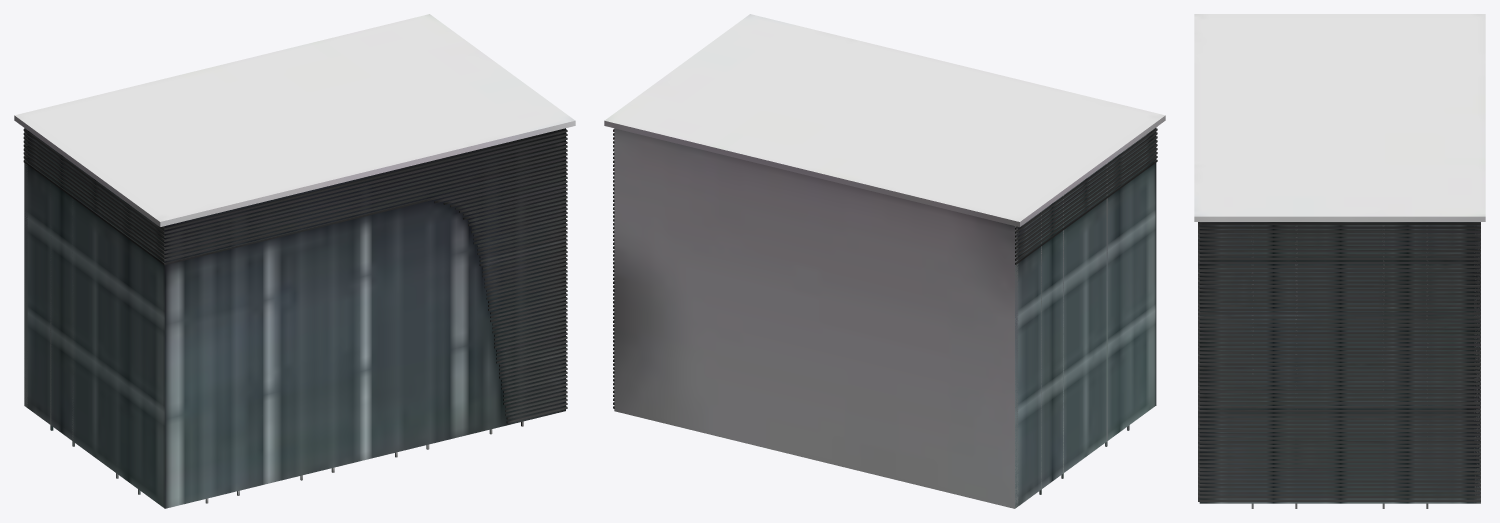
Rendered from car-showroom.lod0.glb.
3 renders of one model, left to right at view 1: azimuth 30°, elevation 25°; view 2: azimuth 150°, elevation 25°; view 3: azimuth 270°, elevation 25°, orthographic.
Visible parts, largest first — view 1: Object001_Object001_mtl_0; view 2: Object001_Object001_mtl_0; view 3: Object001_Object001_mtl_0.
Boxes of the visible parts, x1=… form: Object001_Object001_mtl_0: x1=14, y1=14, x2=575, y2=508; Object001_Object001_mtl_0: x1=604, y1=14, x2=1165, y2=508; Object001_Object001_mtl_0: x1=1194, y1=14, x2=1485, y2=508.
Size of the model in its own units: 18 by 12.24 by 10.94.
1 material, 1 textured.
